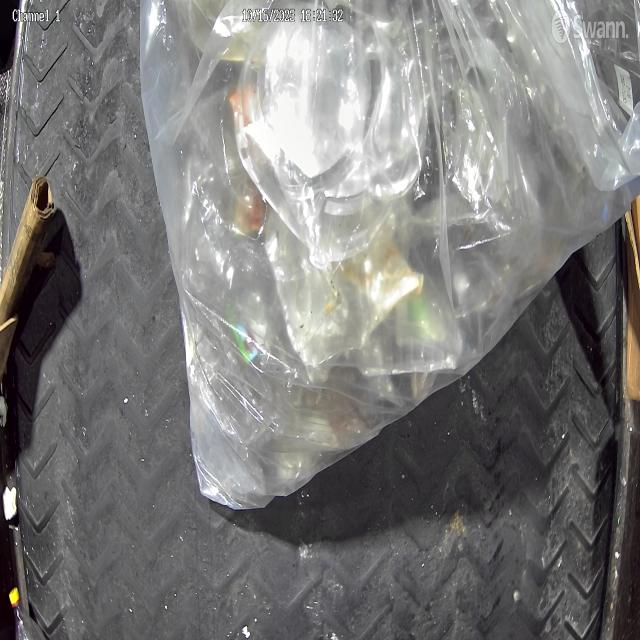plastic_bottle: (7, 585, 47, 640)
